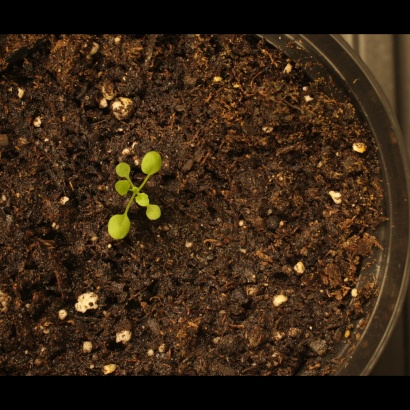leaf: (105, 212, 136, 247), (139, 146, 167, 179), (147, 204, 170, 227), (134, 189, 157, 212), (110, 178, 133, 201), (110, 158, 133, 181)
